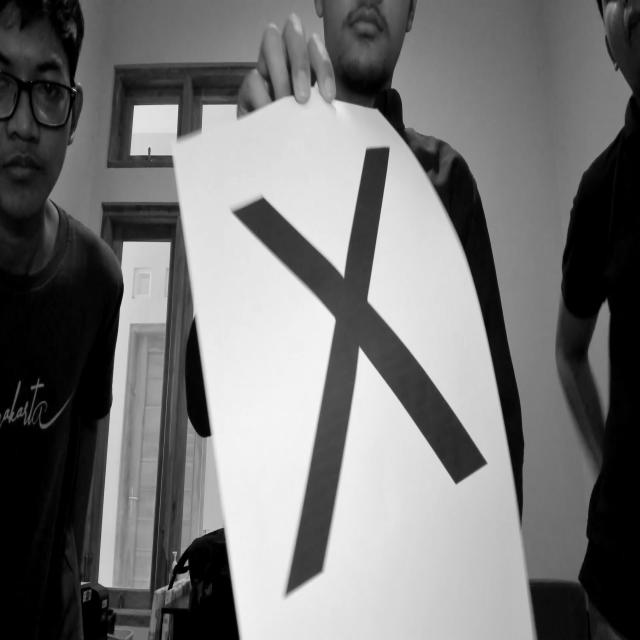x: (219, 122, 505, 606)
